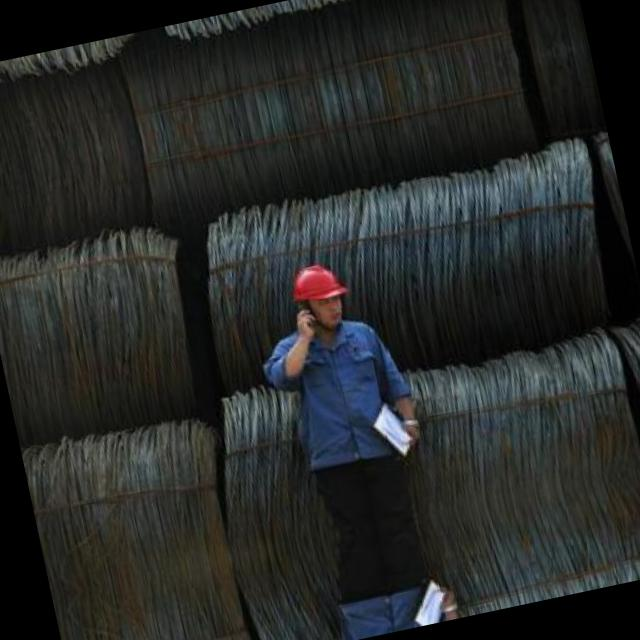helmet: (281, 252, 355, 338)
